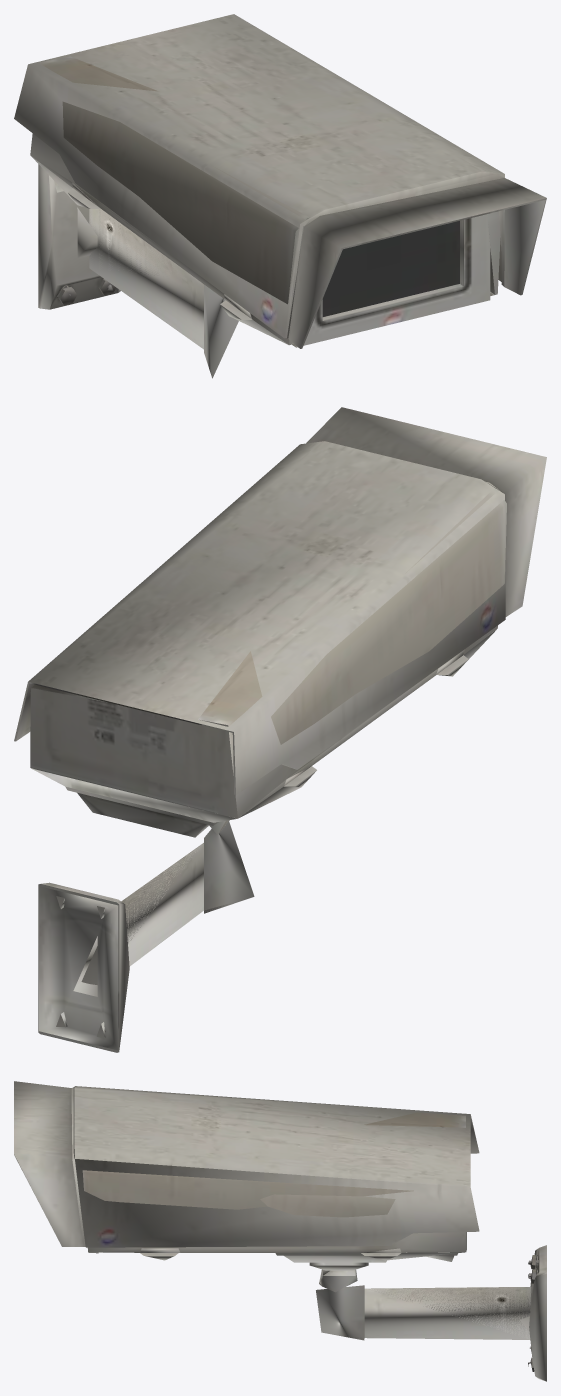
File: security_camera_02.glb
The picture shows the model from 3 angles, top to bottom: view 1: azimuth 30°, elevation 25°; view 2: azimuth 150°, elevation 25°; view 3: azimuth 270°, elevation 25°; orthographic projection. The views are drawn at different scales.
Parts seen in each view (by area): view 1: security_camera_02_mount, security_camera_02; view 2: security_camera_02_mount; view 3: security_camera_02_mount.
Boxes of the visible parts, box(x1,y1,x2,y2) form: security_camera_02_mount: box(14, 14, 546, 378); security_camera_02: box(322, 221, 459, 316); security_camera_02_mount: box(14, 407, 546, 1052); security_camera_02_mount: box(14, 1081, 546, 1381).
Bounding box in the file's own units: 0.1406 × 0.204 × 0.3909.
2 materials, 2 textured.
